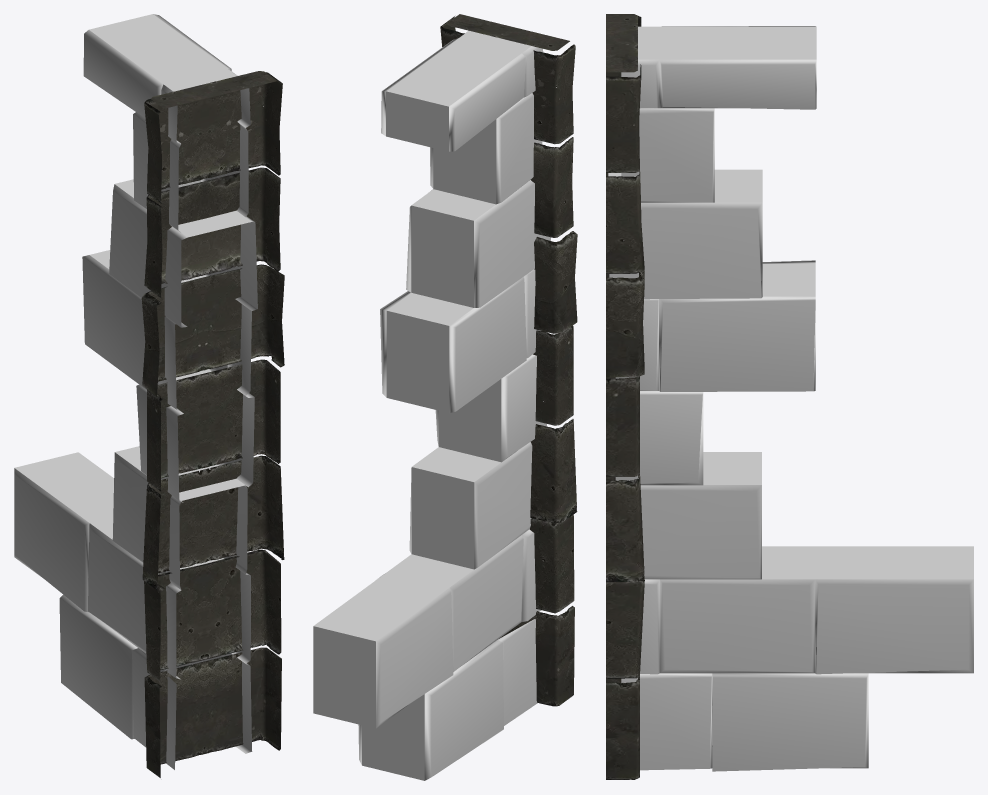
3 views of the same model, side by side, from view 1: azimuth 30°, elevation 25°; view 2: azimuth 150°, elevation 25°; view 3: azimuth 270°, elevation 25° (orthographic). The views are drawn at different scales.
Parts seen in each view (by area): view 1: SM_Greathall_Wall_8x10_Broken_01_LOD0; view 2: SM_Greathall_Wall_8x10_Broken_01_LOD0; view 3: SM_Greathall_Wall_8x10_Broken_01_LOD0.
Part boxes in pixels (x1=…): SM_Greathall_Wall_8x10_Broken_01_LOD0: x1=14, y1=14, x2=284, y2=777; SM_Greathall_Wall_8x10_Broken_01_LOD0: x1=313, y1=14, x2=577, y2=780; SM_Greathall_Wall_8x10_Broken_01_LOD0: x1=606, y1=14, x2=973, y2=779.
Size of the model in its own units: 2 by 10 by 4.71.
Materials: 2 (1 with a texture image).
